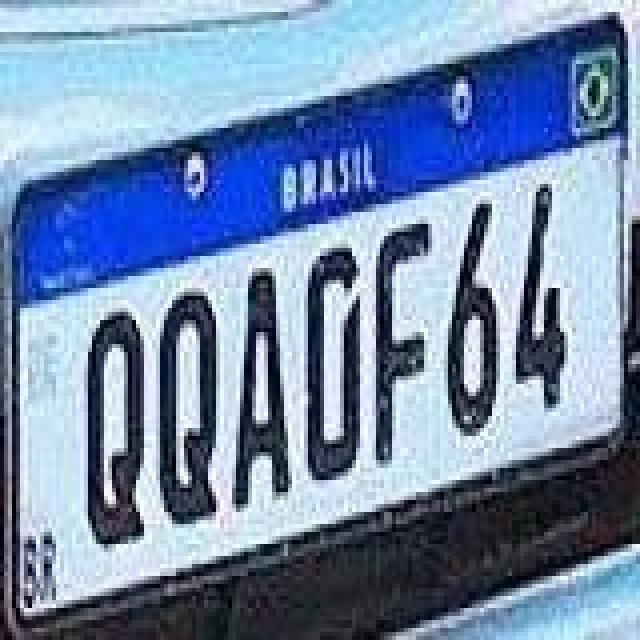4: (516, 180, 572, 412)
6: (444, 202, 500, 438)
A: (232, 266, 296, 518)
D: (306, 242, 366, 486)
F: (374, 220, 434, 468)
Q: (84, 310, 148, 546), (156, 290, 220, 526)
